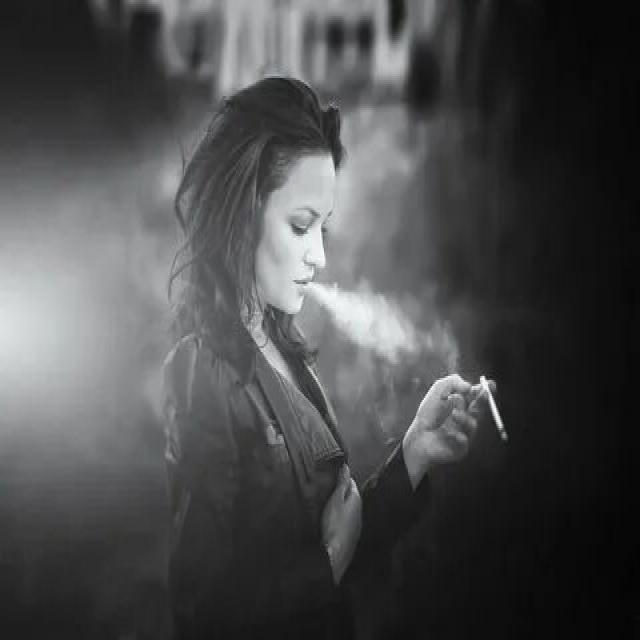cigarette: (478, 372, 514, 446)
